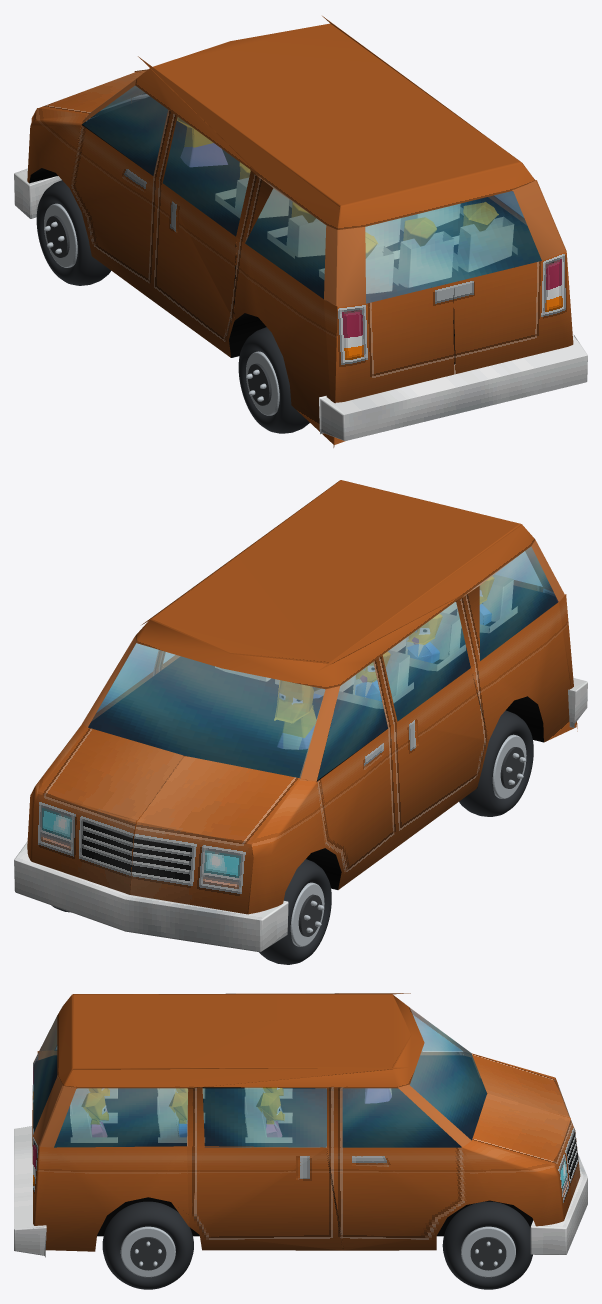
File: car-cnonup.glb
3 views of the same model, one above another, from view 1: azimuth 30°, elevation 25°; view 2: azimuth 150°, elevation 25°; view 3: azimuth 270°, elevation 25° (orthographic). The views are drawn at different scales.
Visible parts, largest first — view 1: cNonupShape.001, cNonupShape.002, cNonupShape, babiesShape, Rounded tire.074, Rounded tire.073, driverShape, Alloy rim.074, Alloy rim.073, Rim recess.146, Rim recess.148; view 2: cNonupShape.001, cNonupShape.002, cNonupShape, babiesShape, Rounded tire.073, Rounded tire.074, driverShape, Alloy rim.073, Alloy rim.074, Rim recess.146, Rim recess.148; view 3: cNonupShape.001, cNonupShape.002, cNonupShape, babiesShape, Rounded tire.072, Rounded tire.075, Alloy rim.072, Alloy rim.075, Rim recess.145, Rim recess.151.
Part boxes in pixels (left/top/right/bottom): cNonupShape.001: left=14, top=16, right=587, bottom=447; cNonupShape.002: left=82, top=85, right=541, bottom=303; cNonupShape: left=29, top=96, right=553, bottom=364; babiesShape: left=215, top=162, right=517, bottom=293; Rounded tire.074: left=36, top=180, right=111, bottom=285; Rounded tire.073: left=238, top=327, right=309, bottom=433; driverShape: left=177, top=117, right=227, bottom=166; Alloy rim.074: left=44, top=203, right=77, bottom=267; Alloy rim.073: left=246, top=351, right=279, bottom=415; Rim recess.146: left=248, top=363, right=271, bottom=405; Rim recess.148: left=46, top=215, right=69, bottom=257; cNonupShape.001: left=14, top=480, right=587, bottom=952; cNonupShape.002: left=88, top=546, right=558, bottom=779; cNonupShape: left=88, top=585, right=557, bottom=889; babiesShape: left=215, top=574, right=517, bottom=708; Rounded tire.073: left=459, top=710, right=533, bottom=816; Rounded tire.074: left=259, top=859, right=331, bottom=964; driverShape: left=274, top=680, right=320, bottom=749; Alloy rim.073: left=492, top=734, right=526, bottom=798; Alloy rim.074: left=290, top=882, right=324, bottom=946; Rim recess.146: left=500, top=747, right=524, bottom=788; Rim recess.148: left=298, top=894, right=322, bottom=936; cNonupShape.001: left=14, top=993, right=587, bottom=1257; cNonupShape.002: left=33, top=1008, right=486, bottom=1147; cNonupShape: left=34, top=1055, right=533, bottom=1238; babiesShape: left=70, top=1087, right=292, bottom=1142; Rounded tire.072: left=102, top=1201, right=193, bottom=1289; Rounded tire.075: left=442, top=1201, right=532, bottom=1289; Alloy rim.072: left=120, top=1226, right=175, bottom=1277; Alloy rim.075: left=461, top=1226, right=515, bottom=1277; Rim recess.145: left=130, top=1237, right=166, bottom=1270; Rim recess.151: left=470, top=1237, right=506, bottom=1270.
Bounding box in the file's own units: 2.37 × 2.15 × 5.25.
6 materials, 3 textured.
